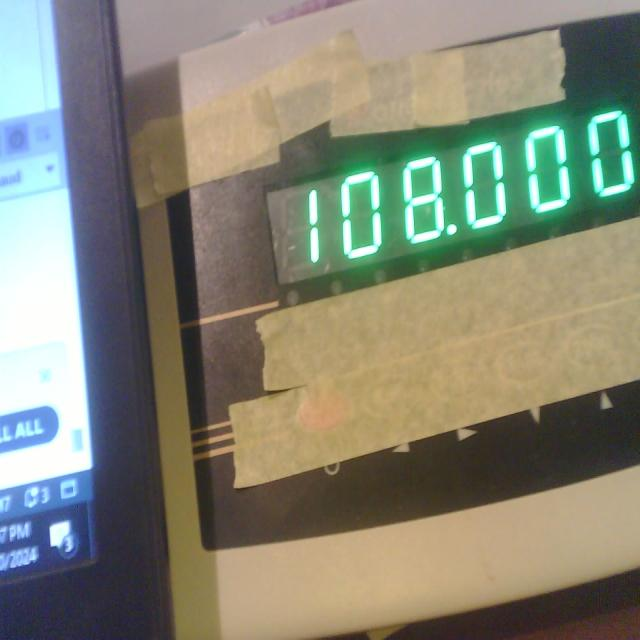.: (445, 216, 459, 239)
0: (340, 153, 383, 275), (587, 108, 634, 198), (525, 124, 571, 214), (462, 140, 507, 230)
1: (307, 137, 322, 316)
8: (402, 155, 447, 244)
